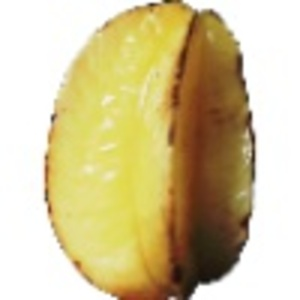carambola: (42, 1, 259, 300)
